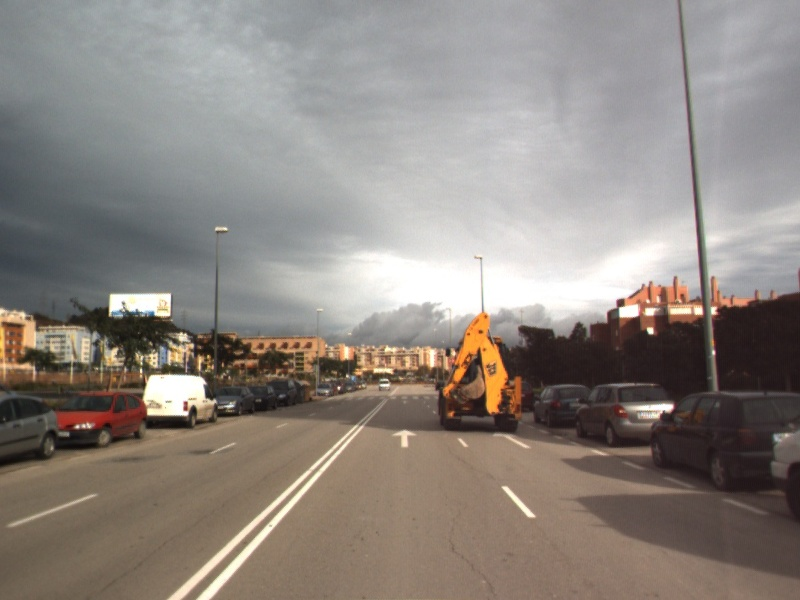STRAIGHT: (491, 429, 534, 450), (390, 427, 418, 449)
